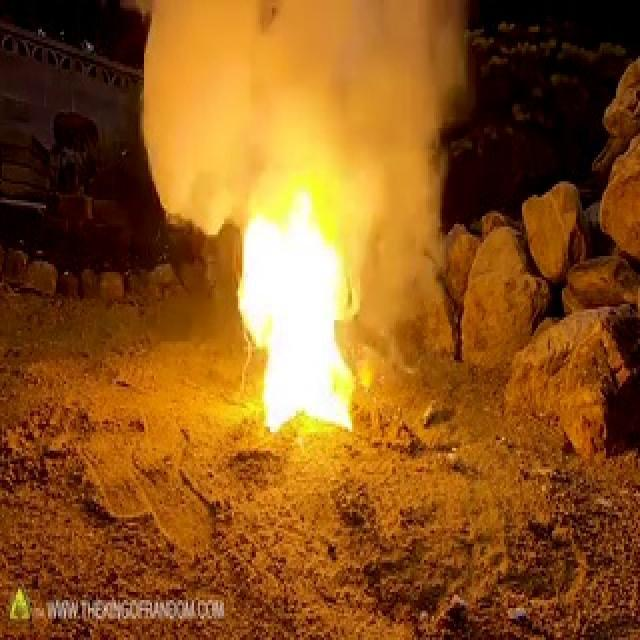Fire: (212, 116, 360, 442)
